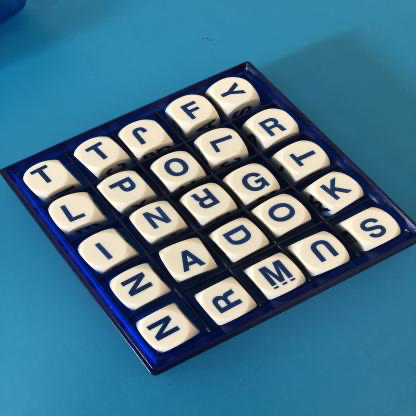a: (166, 242, 212, 279)
d: (218, 223, 265, 257)
f: (173, 95, 215, 126)
g: (232, 165, 275, 199)
i: (82, 234, 130, 268)
j: (123, 120, 169, 153)
k: (314, 175, 359, 208)
l: (51, 196, 95, 230), (200, 129, 244, 158)
m: (252, 258, 301, 293)
n: (141, 310, 190, 349), (114, 270, 161, 307), (136, 205, 182, 237)
o: (260, 199, 306, 230), (156, 154, 200, 185)
p: (105, 174, 148, 205)
r: (203, 284, 250, 319), (249, 109, 297, 140), (189, 185, 231, 218)
s: (352, 210, 397, 244)
t: (78, 135, 122, 171), (27, 162, 69, 197), (282, 142, 327, 174)
u: (300, 234, 345, 270)
y: (210, 77, 256, 107)
